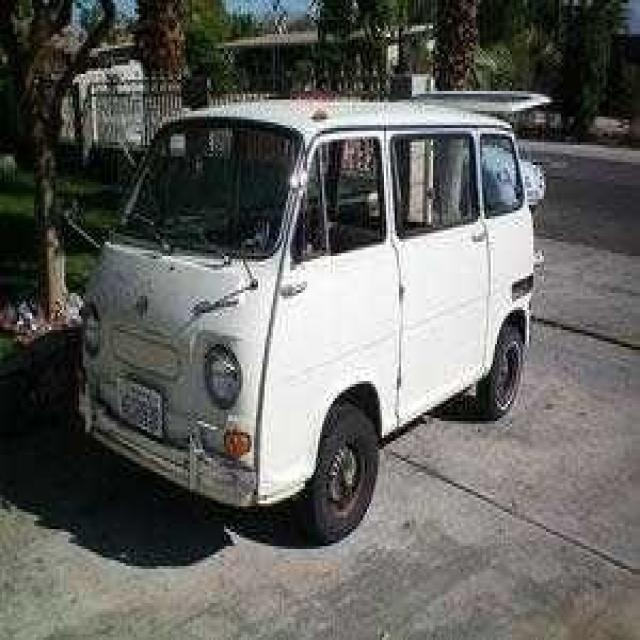Van: (69, 88, 542, 546)
